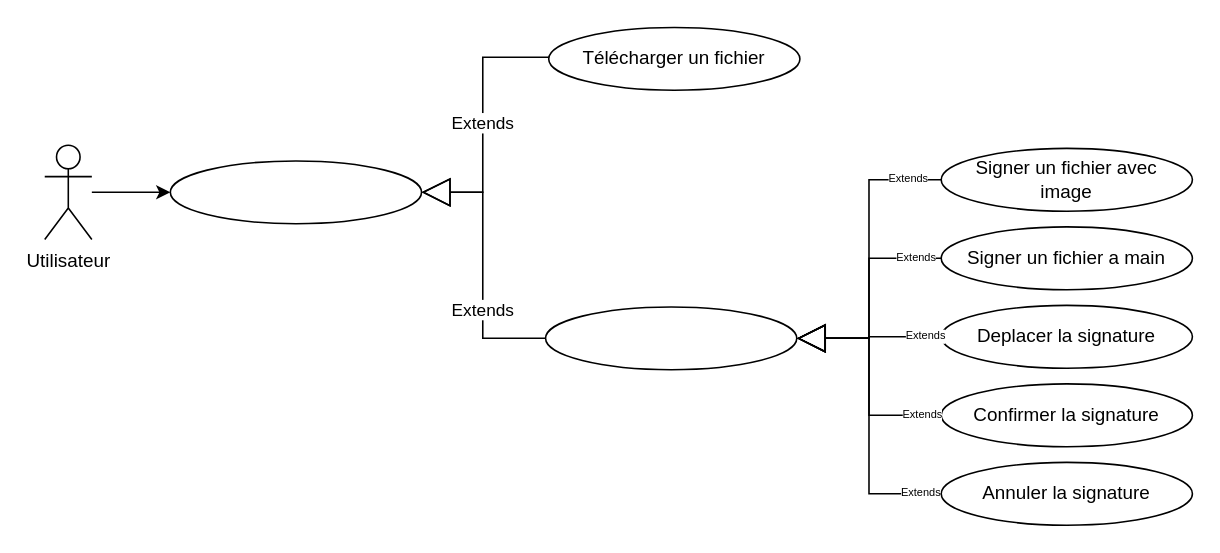
Some shapes in this 1220 by 553 pixel diagram are drawn without their labels. The centre of each missing label's shape, as x and y in pixels:
Signer un fichier: (x=670, y=337)
Visualiser un fichier: (x=295, y=191)
